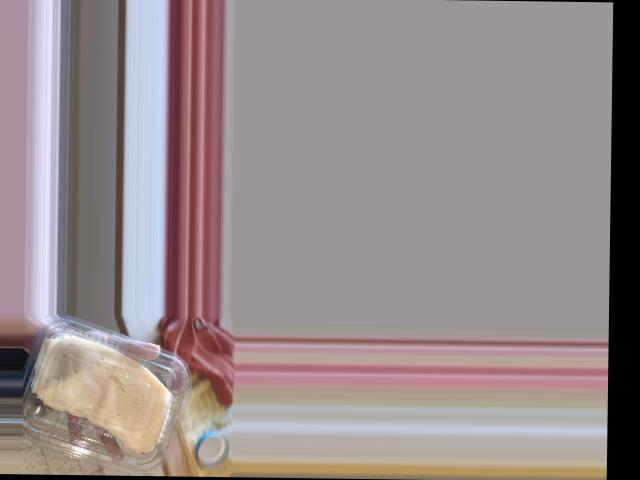cheese: (20, 325, 194, 467)
